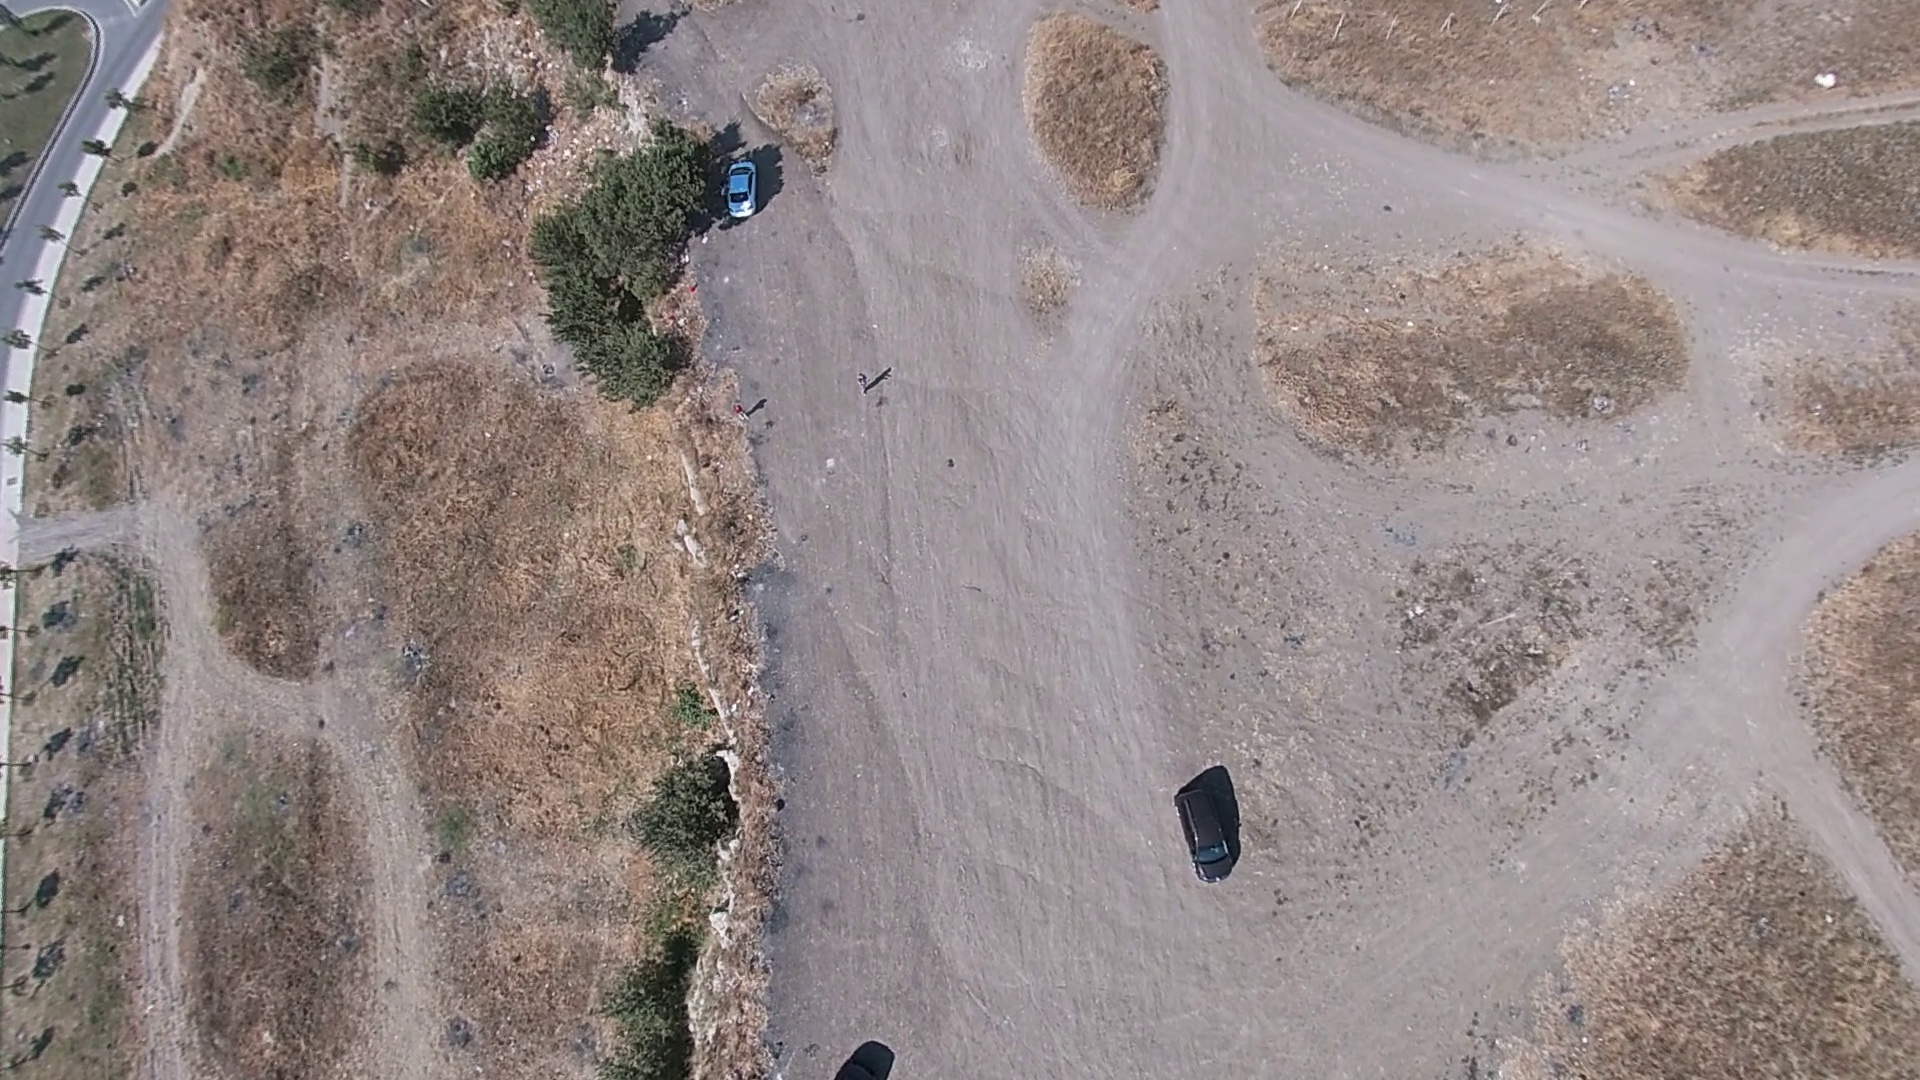arac: (1170, 776, 1240, 883), (720, 154, 758, 217)
insan: (728, 393, 757, 429), (859, 365, 874, 395)
